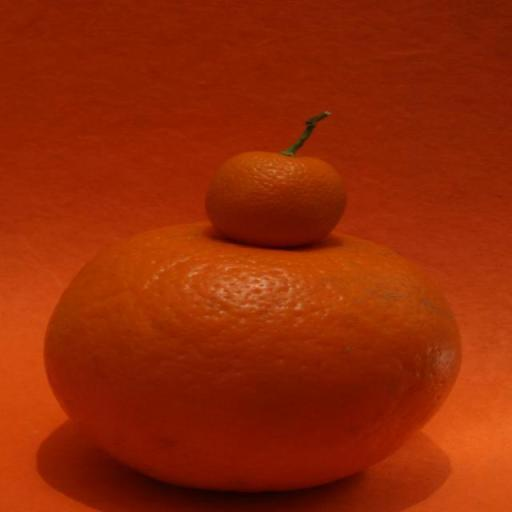fruit: (45, 153, 458, 489), (44, 224, 458, 489), (205, 136, 345, 246), (307, 122, 313, 128)
